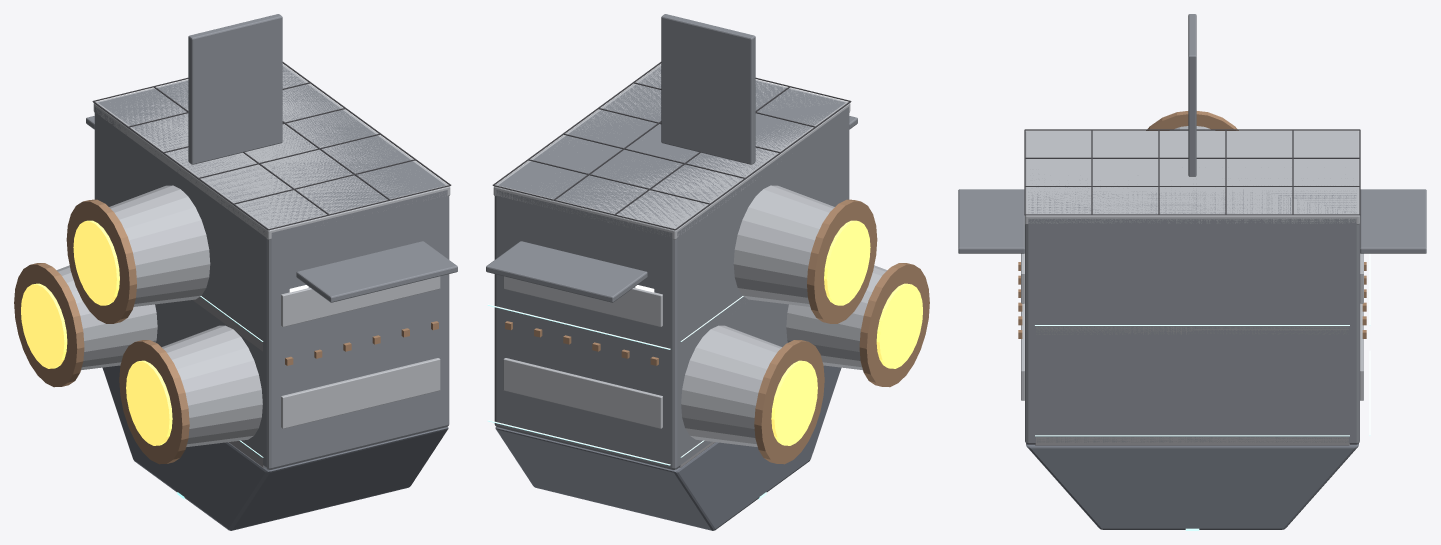
The model's file is ship_stern_5x3.glb.
3 views of the same model, side by side, from view 1: azimuth 30°, elevation 25°; view 2: azimuth 150°, elevation 25°; view 3: azimuth 270°, elevation 25° (orthographic). The views are drawn at different scales.
Parts seen in each view (by area): view 1: ext_hull, ext_deck_top, ext_hull_belly, ext_fin_top, ext_engine0, ext_engine2, ext_armor_plates, ext_fins, ext_engine_ring2, ext_engine_ring1, ext_engine_ring0, ext_engine1 (+5 smaller); view 2: ext_hull, ext_hull_belly, ext_fin_top, ext_deck_top, ext_engine1, ext_engine2, ext_armor_plates, ext_fins, ext_engine_ring2, ext_engine_ring0, ext_engine_ring1, ext_engine0 (+4 smaller); view 3: ext_hull, ext_deck_top, ext_hull_belly, ext_fins, ext_deck_grid, int_deck_lower, int_deck_upper, ext_fin_top, ext_armor_plates, ext_engine_ring2, int_grid_14.
Part boxes in pixels (box(x1,y1,x2,y2)): ext_hull: box(94, 66, 449, 469); ext_deck_top: box(93, 64, 450, 239); ext_hull_belly: box(102, 365, 448, 530); ext_fin_top: box(188, 14, 282, 164); ext_engine0: box(162, 325, 262, 446); ext_engine2: box(109, 185, 210, 306); ext_armor_plates: box(281, 276, 440, 428); ext_fins: box(86, 116, 457, 302); ext_engine_ring2: box(66, 199, 136, 323); ext_engine_ring1: box(14, 263, 84, 387); ext_engine_ring0: box(119, 340, 189, 464); ext_engine1: box(56, 265, 157, 370); ext_hull: box(494, 66, 849, 469); ext_hull_belly: box(495, 365, 841, 530); ext_fin_top: box(661, 14, 755, 164); ext_deck_top: box(493, 64, 850, 239); ext_engine1: box(681, 325, 781, 446); ext_engine2: box(733, 185, 834, 306); ext_armor_plates: box(503, 276, 662, 428); ext_fins: box(486, 116, 857, 302); ext_engine_ring2: box(807, 199, 877, 323); ext_engine_ring0: box(859, 263, 929, 387); ext_engine_ring1: box(754, 340, 824, 464); ext_engine0: box(786, 265, 887, 370); ext_hull: box(1025, 185, 1359, 444); ext_deck_top: box(1025, 131, 1359, 224); ext_hull_belly: box(1026, 444, 1358, 529); ext_fins: box(958, 189, 1426, 253); ext_deck_grid: box(1024, 129, 1360, 215); int_deck_lower: box(1035, 437, 1349, 445); int_deck_upper: box(1036, 326, 1348, 334); ext_fin_top: box(1188, 14, 1196, 176); ext_armor_plates: box(1021, 253, 1363, 400); ext_engine_ring2: box(1146, 111, 1238, 130); int_grid_14: box(1035, 350, 1370, 436).
Bounding box in the file's own units: 4.42 × 7.2 × 7.
